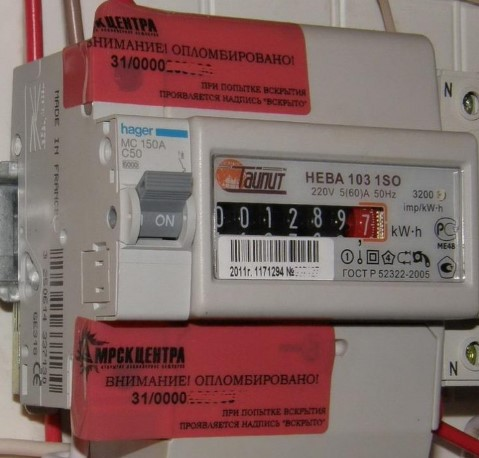counter: (44, 1, 479, 443)
counter_screen: (214, 200, 389, 242)
